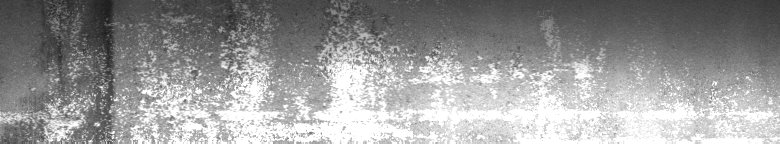kb: (4, 4, 482, 136)
